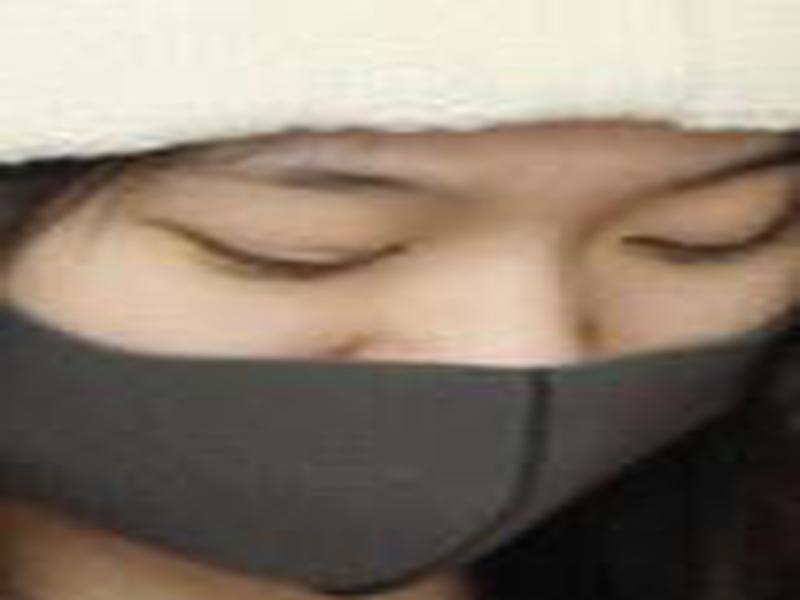with_mask: (1, 121, 795, 600)
